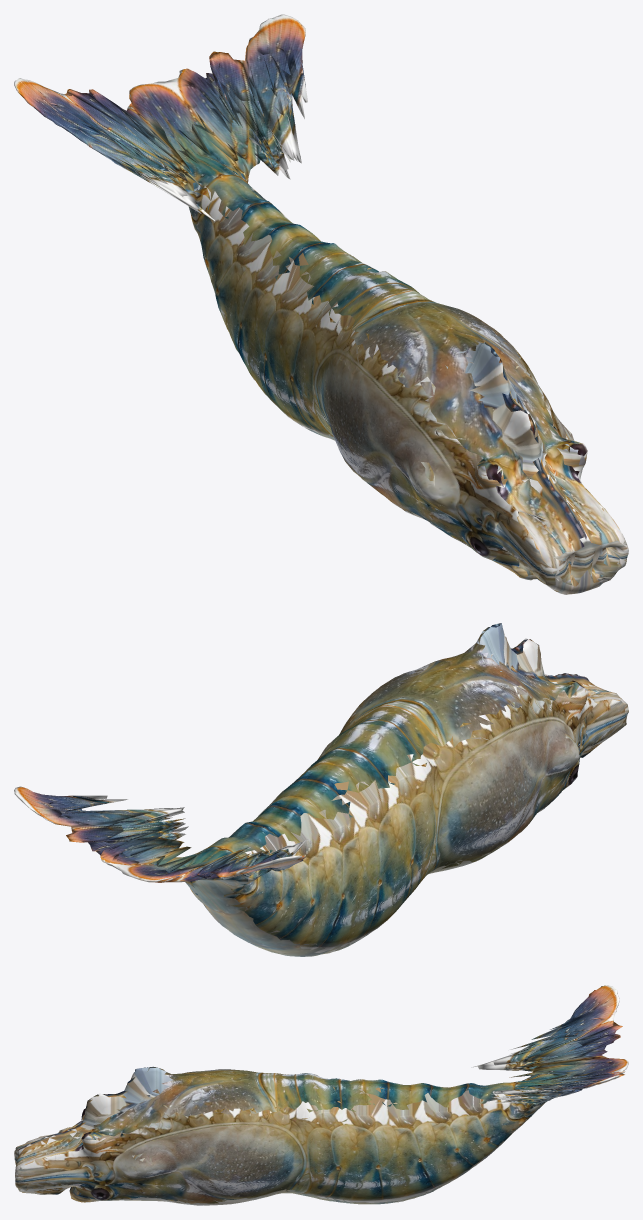
File: crust_prawn.glb
3 views of the same model, one above another, from view 1: azimuth 30°, elevation 25°; view 2: azimuth 150°, elevation 25°; view 3: azimuth 270°, elevation 25° (orthographic). The views are drawn at different scales.
Visible parts, largest first — view 1: orient; view 2: orient; view 3: orient.
Part boxes in pixels (<box>): orient: <box>14,14,628,594</box>; orient: <box>14,623,628,956</box>; orient: <box>14,985,628,1205</box>.
Size of the model in its own units: 0.7097 by 0.5833 by 1.94.
Materials: 1 (1 with a texture image).
